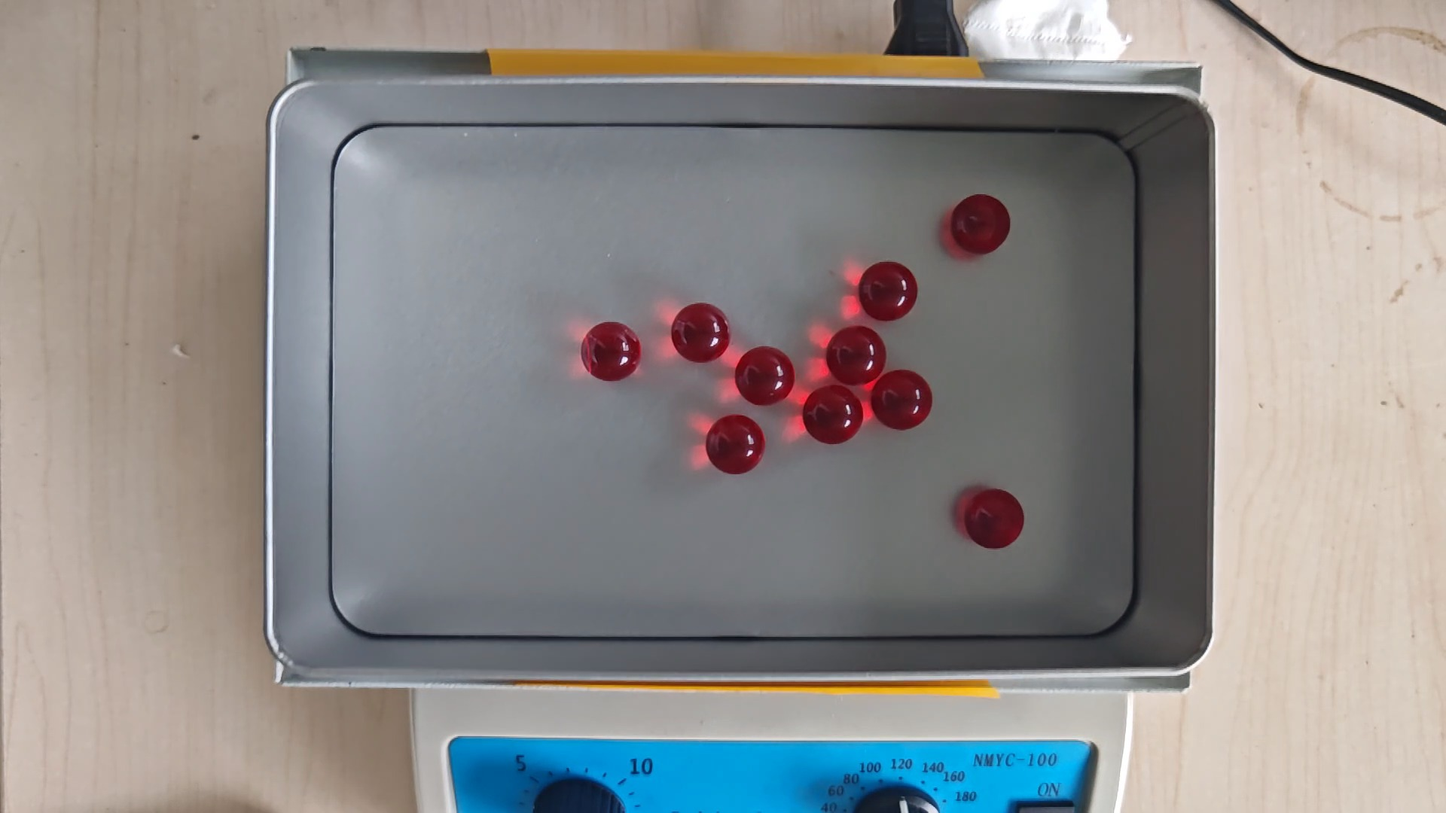ball: (964, 488, 1025, 550), (872, 369, 933, 431), (706, 414, 766, 475), (671, 302, 731, 363), (803, 384, 863, 445), (581, 321, 641, 382), (859, 260, 918, 322), (826, 325, 886, 385), (735, 346, 795, 406), (952, 193, 1011, 254)
container: (330, 126, 1136, 638)
